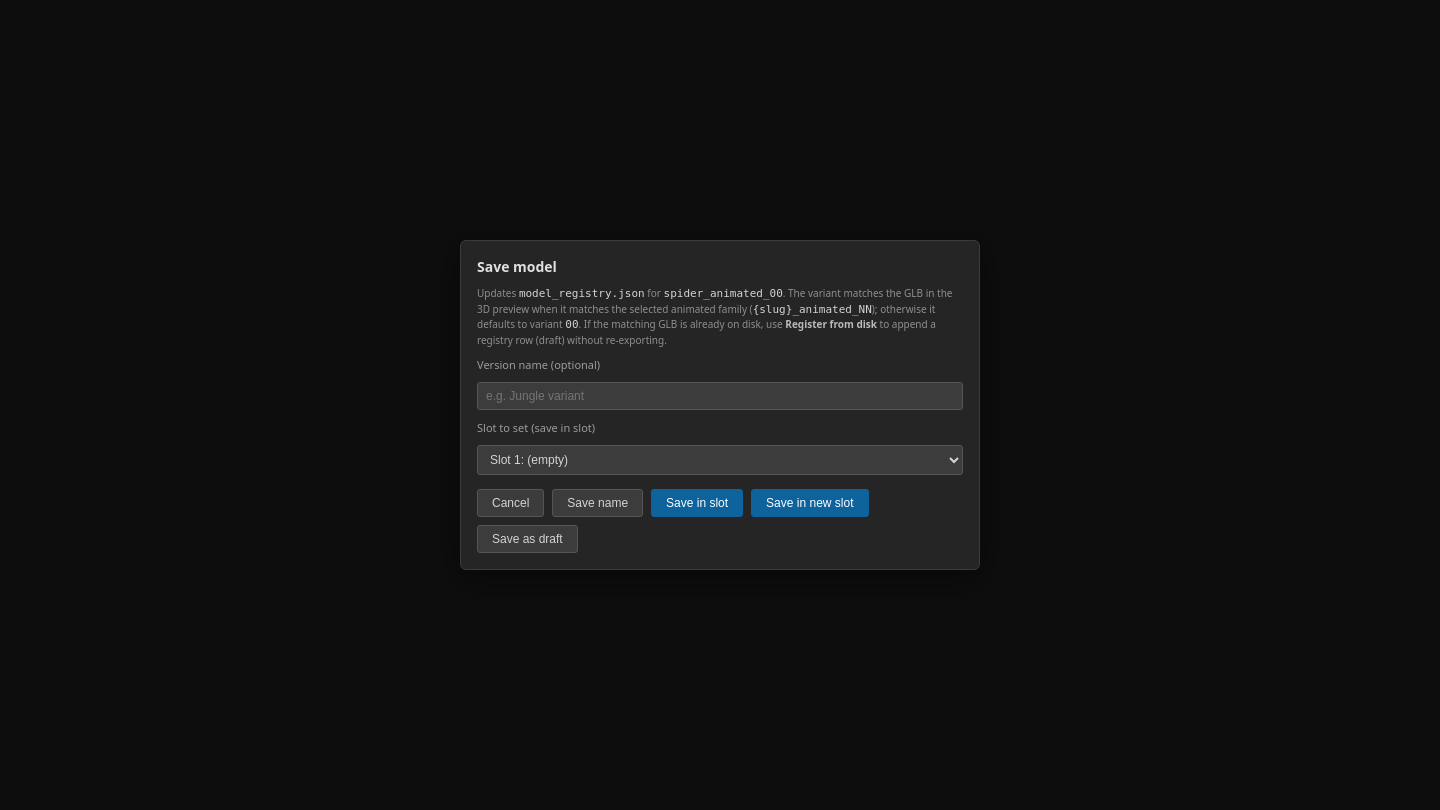
SaveModelModal › registry-fix-versions-slots-load R3: Save in new slot shows in_use error when not in spawn pool
This screenshot has width=1440, height=810.
What coordinates should you click on to do the following:
click the button "Save in new slot"
I would click on:
 (810, 503)
Its box is x1=751 y1=489 x2=868 y2=517.
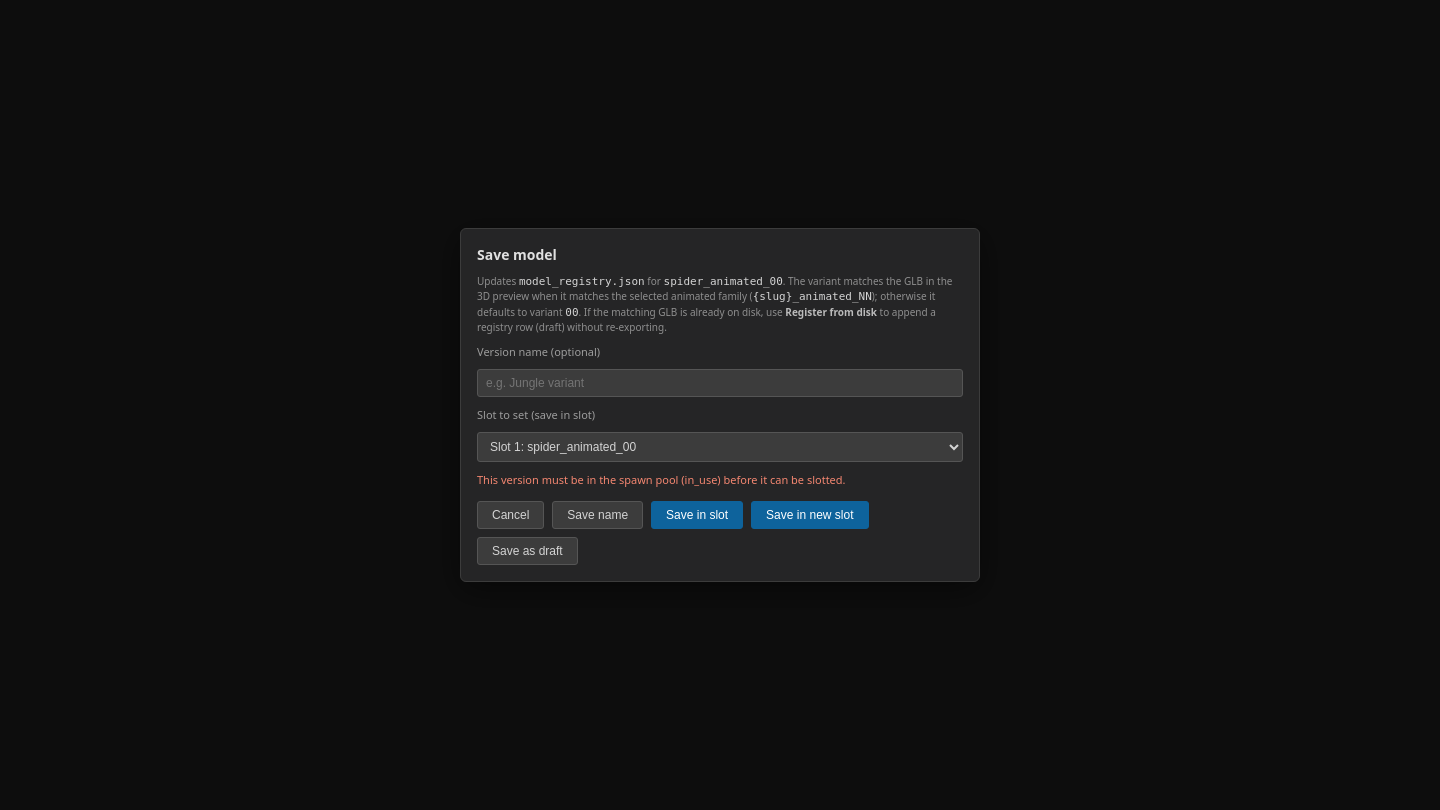
Expected: the message shows "spawn pool", x1=477 y1=472 x2=846 y2=487
